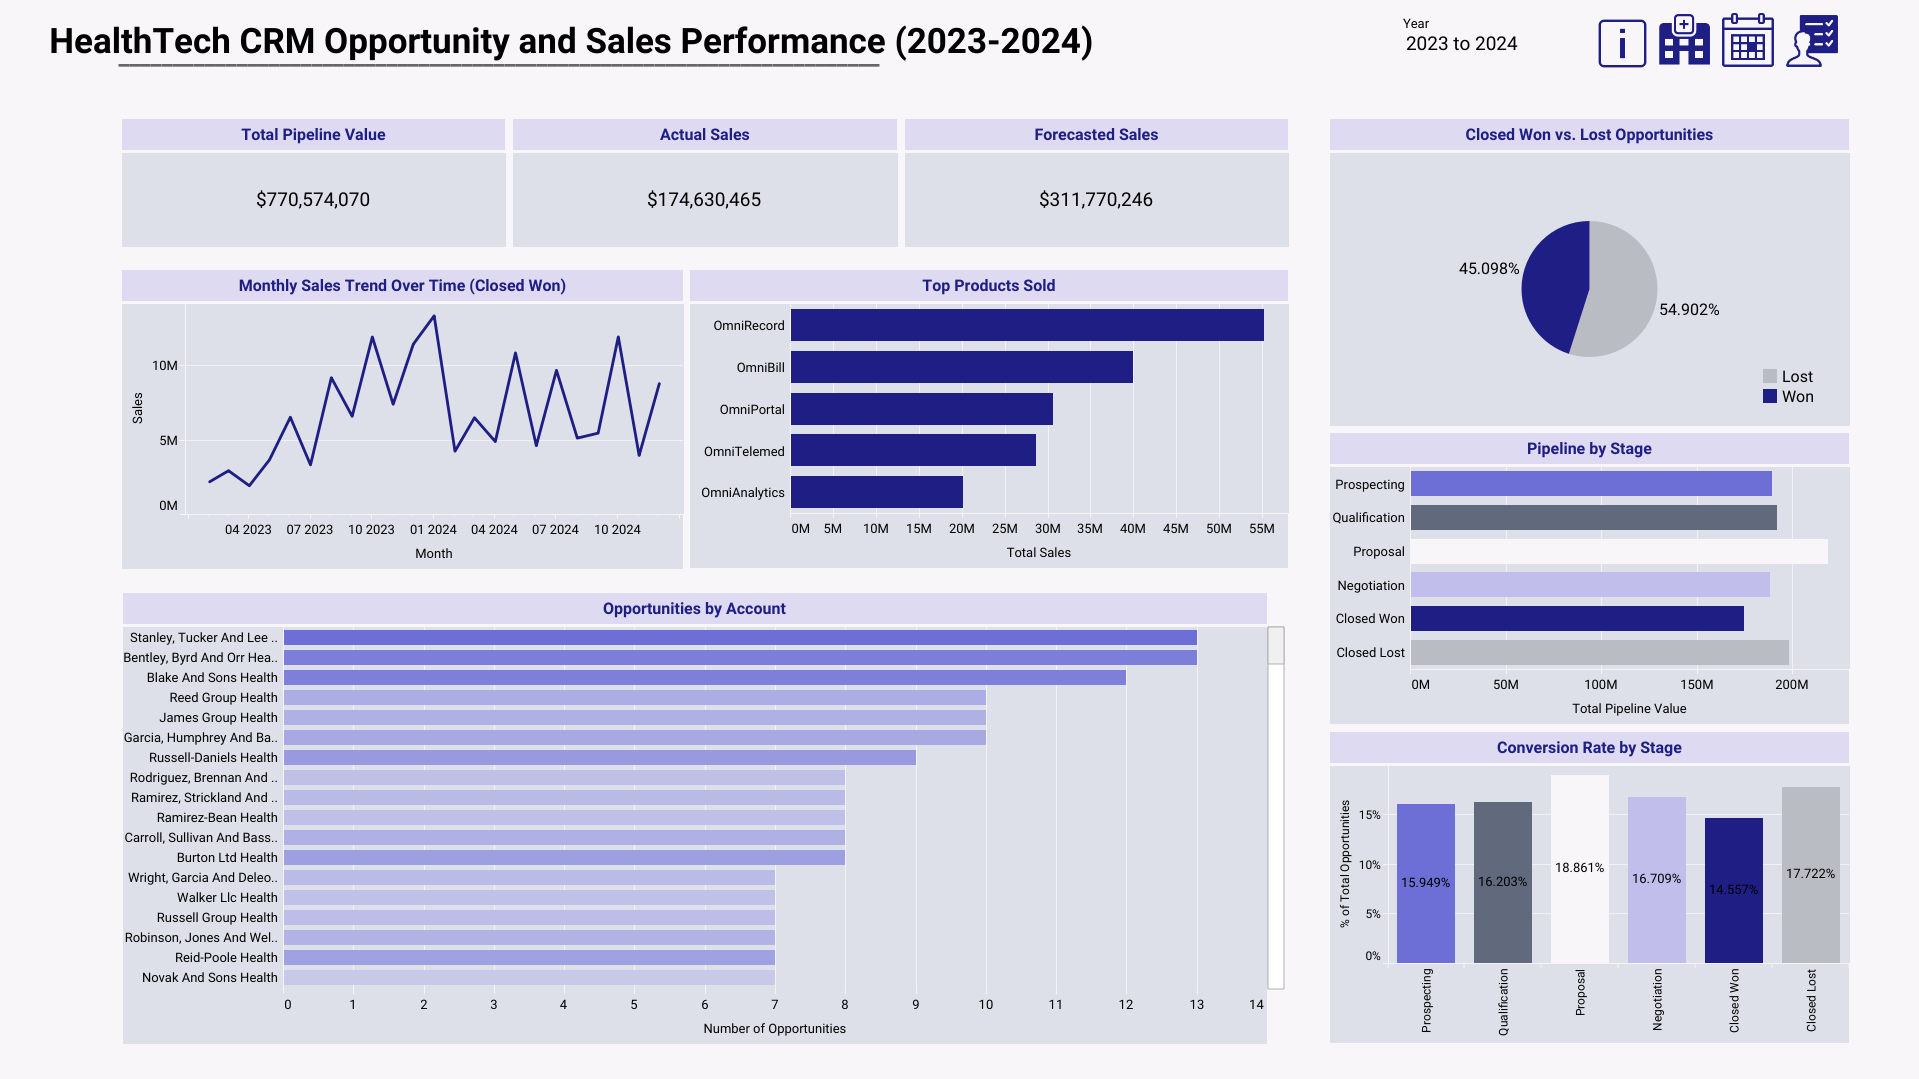

This screenshot's page, from the dashboard's own definition file:
{"tool":"tableau","page":{"name":"C. Opportunitiy and Sales Performance","canvas":[1920,1080],"ordinal":2},"visuals":[{"type":"text","box":[8,8,1744,66]},{"type":"dashboard-object","box":[1652,9,64,64]},{"type":"dashboard-object","box":[1716,9,64,64]},{"type":"dashboard-object","box":[1780,9,64,64]},{"type":"filter","title":"C/Actual Sales","param":"[federated.1p3o68412q3mb515engqs1qx709h].[tyr:created_date:qk]","box":[1403,14,156,78]},{"type":"image","param":"Image/icons8-info-squared-100.png","box":[1594,15,57,58]},{"type":"text","box":[116,26,964,59]},{"type":"worksheet","title":"C/Total Pipeline Value","mark":"Automatic","box":[118,115,391.3,135]},{"type":"worksheet","title":"C/Actual Sales","mark":"Automatic","box":[509.3,115,391.3,135]},{"type":"worksheet","title":"C/Forecasted Sales","mark":"Automatic","box":[900.7,115,391.3,135]},{"type":"worksheet","title":"C/Closed Won vs. Lost Opportunities","mark":"Pie","box":[1326,115,527,314]},{"type":"worksheet","title":"C/Sales Trend","mark":"Line","rows":["amount"],"cols":["close_date"],"box":[118,266,565.5,307]},{"type":"worksheet","title":"C/Top Products Sold","mark":"Automatic","rows":["product"],"cols":["amount"],"box":[683.5,266,608.5,307]},{"type":"legend","title":"C/Closed Won vs. Lost Opportunities","param":"[federated.1p3o68412q3mb515engqs1qx709h].[none:status:nk]","box":[1760,366,86,56]},{"type":"worksheet","title":"C/Pipeline by Stage","mark":"Automatic","rows":["stage"],"cols":["amount"],"box":[1326,429,527,299]},{"type":"worksheet","title":"C/Opportunities by Account","mark":"Automatic","rows":["account_name"],"cols":["opp_id"],"box":[119,589,1170,459]},{"type":"worksheet","title":"C/Conversion Rate by Stage","mark":"Automatic","rows":["opp_id"],"cols":["stage"],"box":[1326,728,527,319]}]}

Visuals, with their boxes in screenshot pixels (x1, y1, x2, y2), scaled from the page's 1920x1080 canvas onto the 1919x1079 screenshot:
text: [8,8,1751,74]
dashboard-object: [1651,9,1715,73]
dashboard-object: [1715,9,1779,73]
dashboard-object: [1779,9,1843,73]
"C/Actual Sales" filter: [1402,14,1558,92]
image: [1593,15,1650,73]
text: [116,26,1079,85]
"C/Total Pipeline Value" worksheet: [118,115,509,250]
"C/Actual Sales" worksheet: [509,115,900,250]
"C/Forecasted Sales" worksheet: [900,115,1291,250]
"C/Closed Won vs. Lost Opportunities" worksheet (Pie marks): [1325,115,1852,429]
"C/Sales Trend" worksheet (Line marks): [118,266,683,572]
"C/Top Products Sold" worksheet: [683,266,1291,572]
"C/Closed Won vs. Lost Opportunities" legend: [1759,366,1845,422]
"C/Pipeline by Stage" worksheet: [1325,429,1852,727]
"C/Opportunities by Account" worksheet: [119,588,1288,1047]
"C/Conversion Rate by Stage" worksheet: [1325,727,1852,1046]
